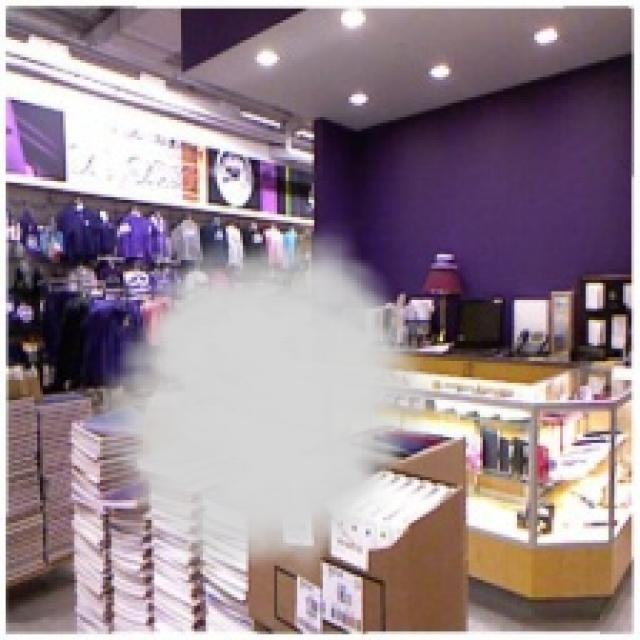smoke: (80, 217, 446, 580)
